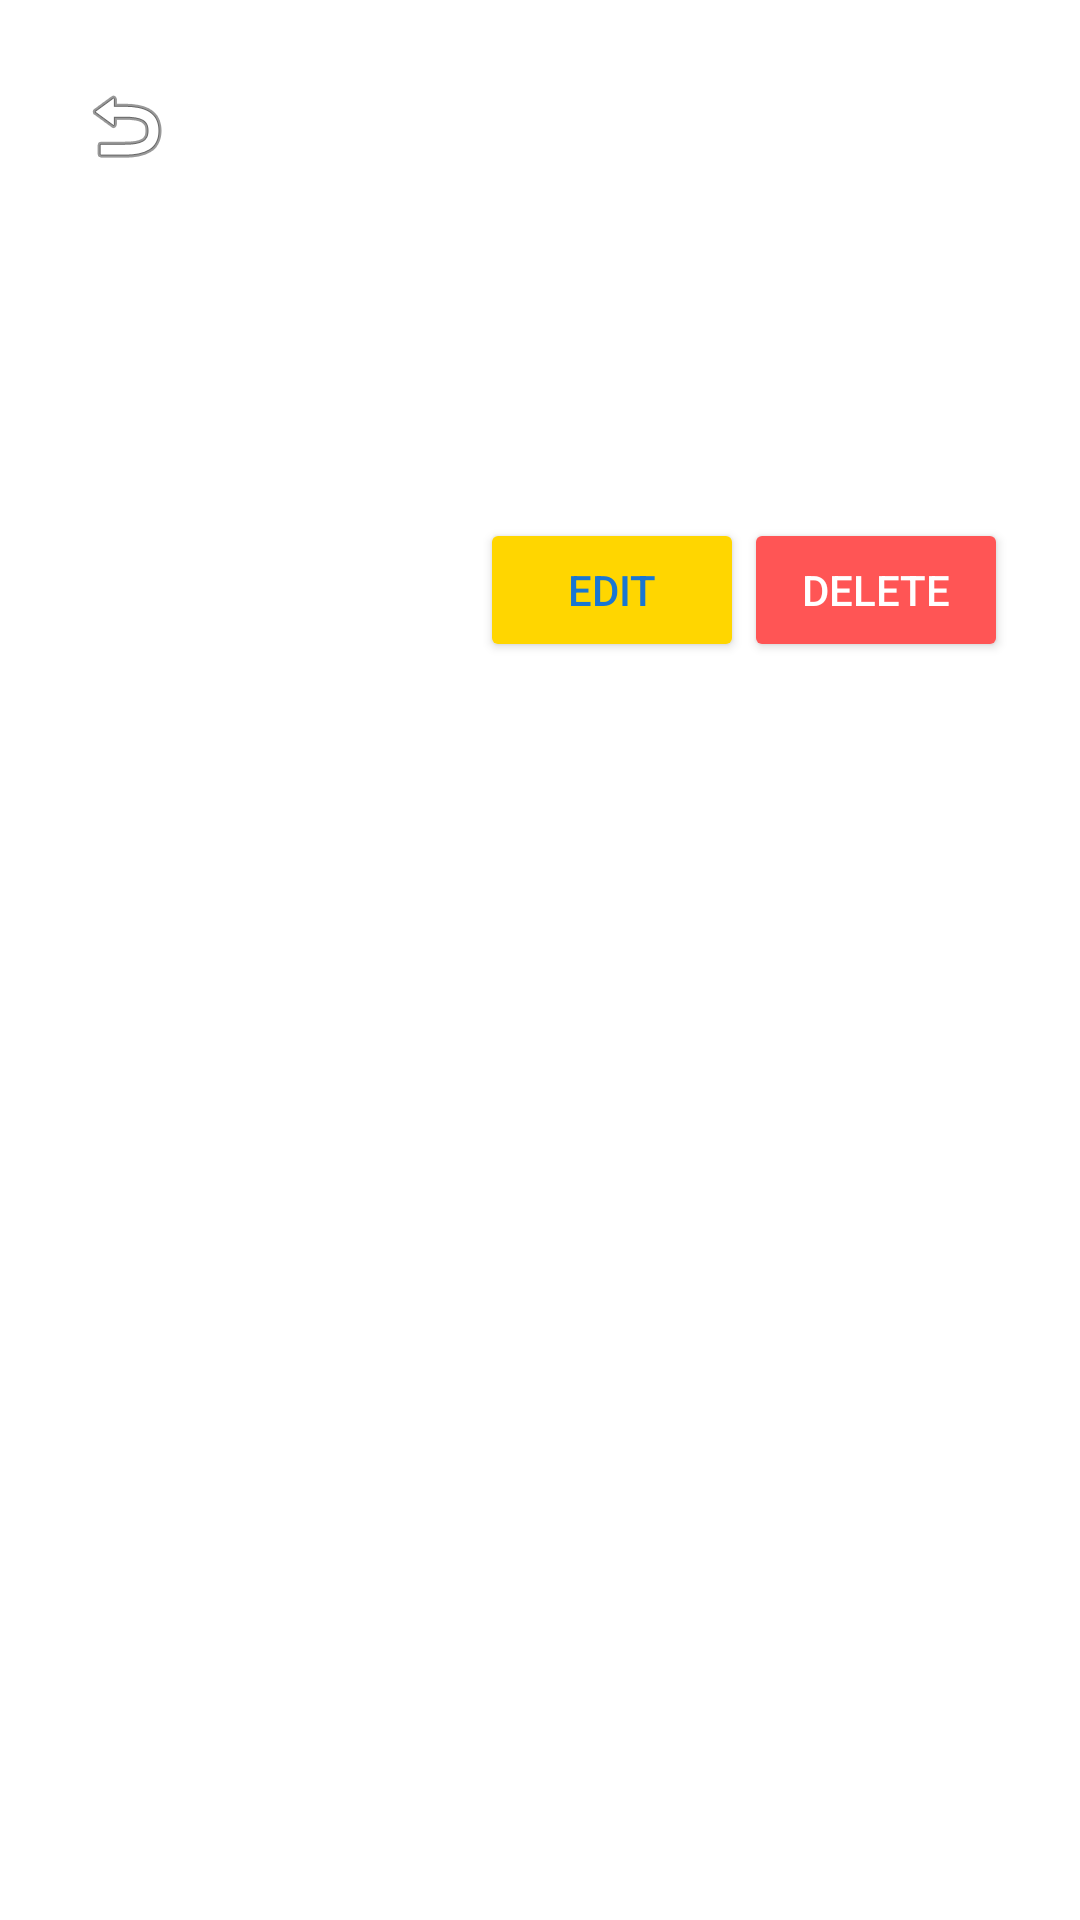

Locate icon controls on the screen. Image size 1080x1920, boxes as (x1, y1, x2, y2).
Back: (93, 95, 162, 158)
